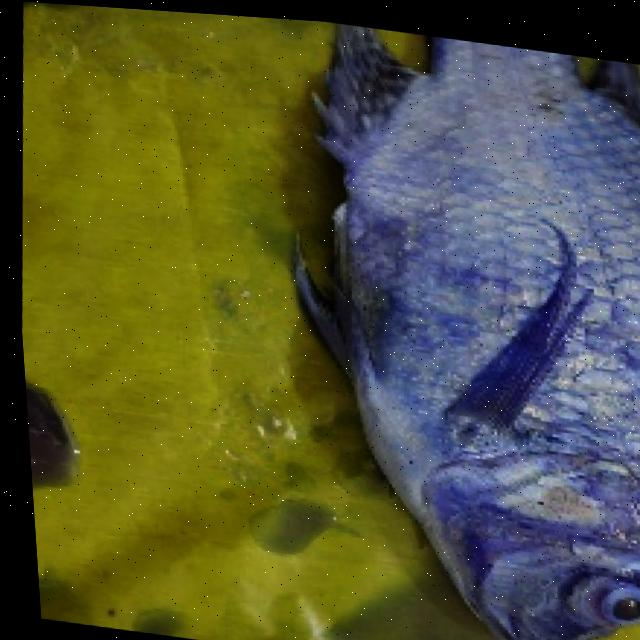Non-Fresh: (567, 540, 640, 624)
